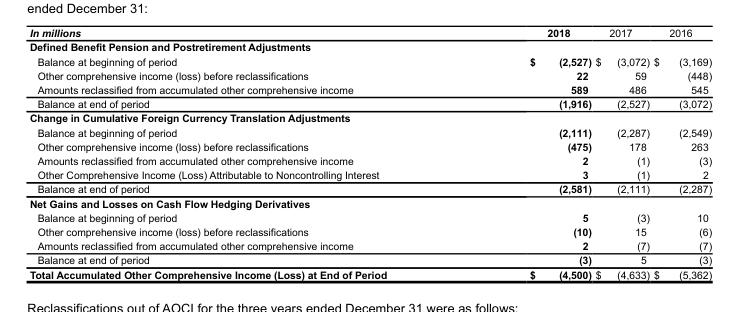table: (28, 29, 711, 281)
table column: (28, 29, 457, 281), (457, 29, 592, 281), (650, 29, 711, 281), (592, 29, 650, 281)
table column header: (28, 29, 711, 41)
table projected row header: (28, 197, 711, 212), (28, 41, 711, 55), (28, 112, 711, 126)
table row: (28, 69, 711, 84), (28, 140, 711, 155), (28, 197, 711, 212), (28, 41, 711, 55), (28, 55, 711, 69), (28, 84, 711, 98), (28, 98, 711, 112), (28, 112, 711, 126), (28, 126, 711, 140), (28, 155, 711, 169), (28, 169, 711, 183), (28, 183, 711, 197), (28, 212, 711, 226), (28, 226, 711, 240), (28, 240, 711, 254), (28, 254, 711, 268), (28, 268, 711, 281), (28, 29, 711, 41)
